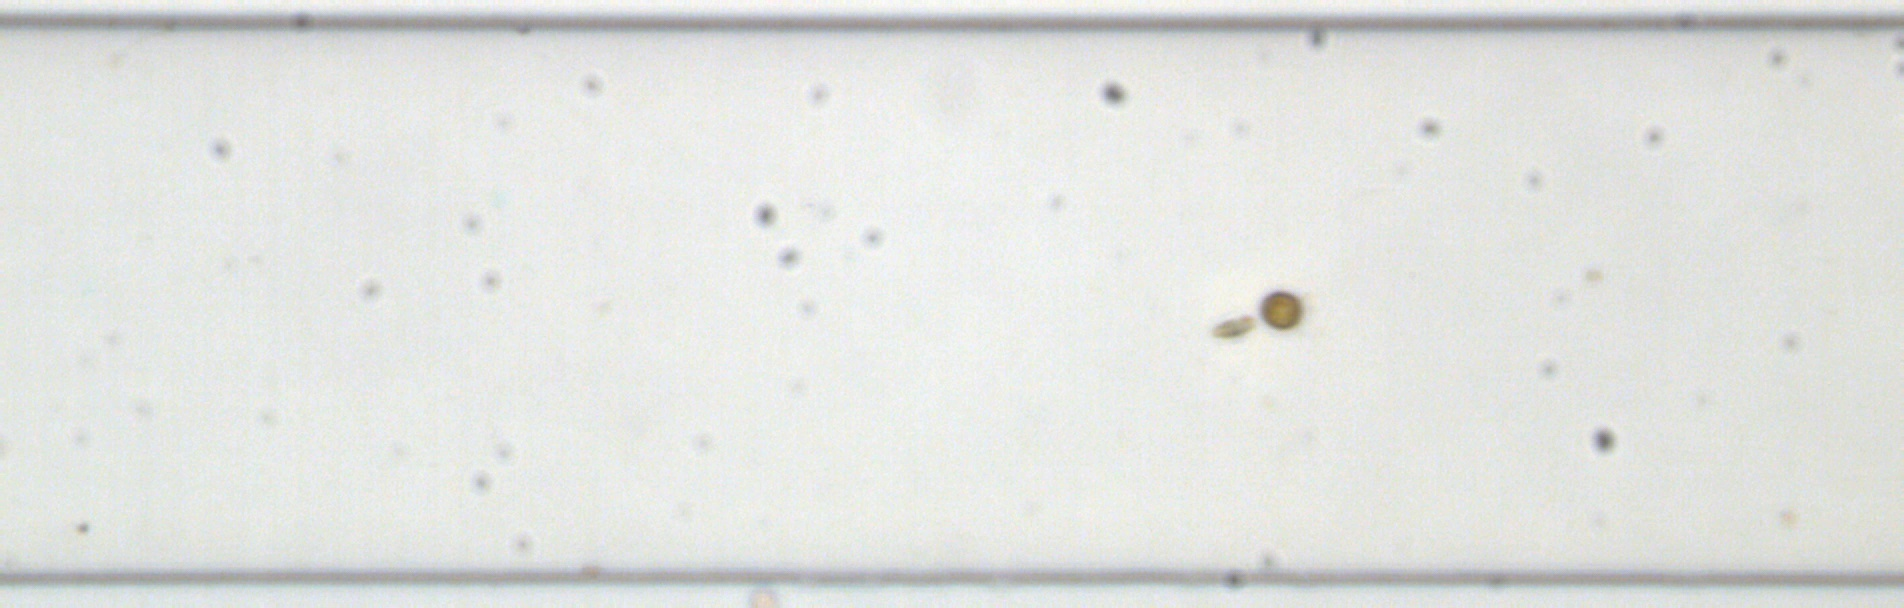Dunaliella salina: (1208, 309, 1256, 342)
Effrenium: (1258, 286, 1303, 333)
